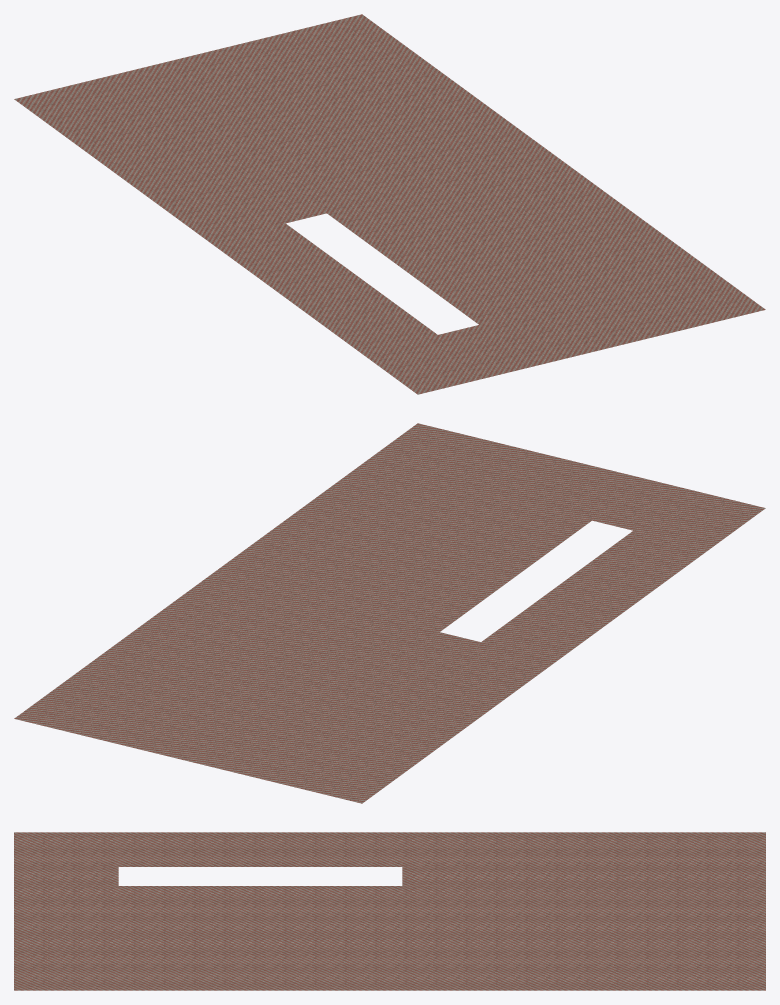
File: bigRoadOneHole.fbx
3 views of the same model, one above another, from view 1: azimuth 30°, elevation 25°; view 2: azimuth 150°, elevation 25°; view 3: azimuth 270°, elevation 25° (orthographic). The views are drawn at different scales.
Parts seen in each view (by area): view 1: bigRoadOneHole; view 2: bigRoadOneHole; view 3: bigRoadOneHole.
Boxes of the visible parts, x1,y1,x2,y2 form: bigRoadOneHole: (14,14,765,394); bigRoadOneHole: (14,423,765,803); bigRoadOneHole: (14,832,765,990).
Size of the model in its own units: 66 by 0 by 133.
